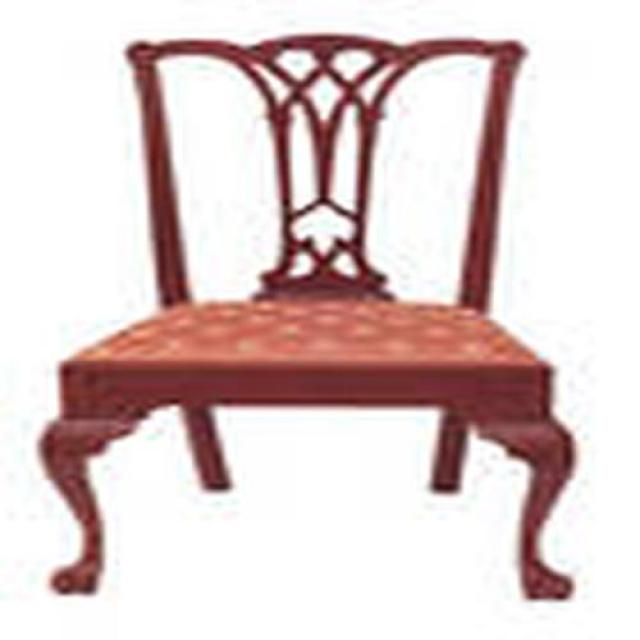chair: (36, 35, 576, 603)
